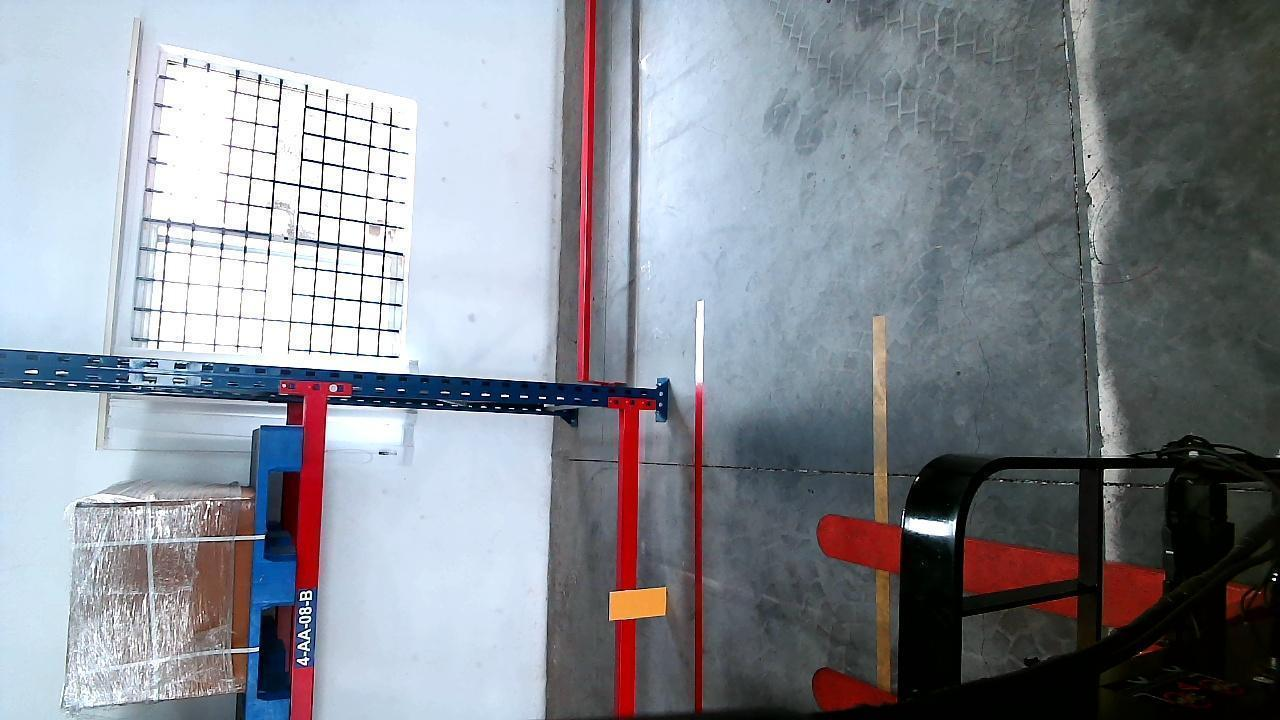red_line: (685, 330, 711, 715)
yellow_line: (873, 316, 890, 514)
